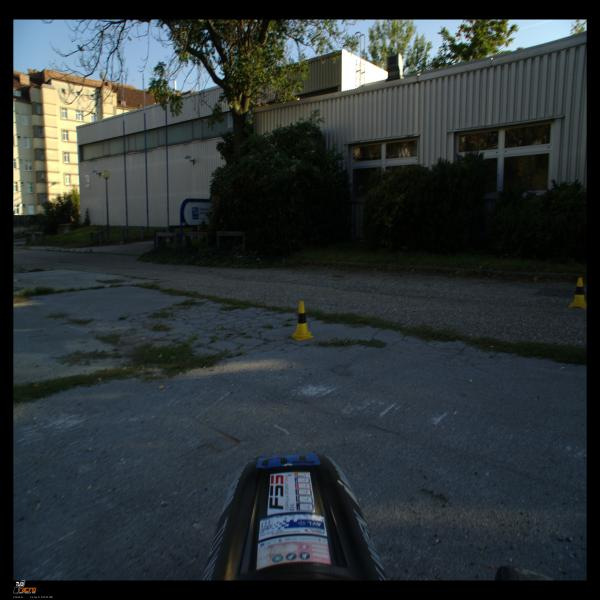yellow_cone: (290, 301, 314, 341), (568, 277, 587, 308)
